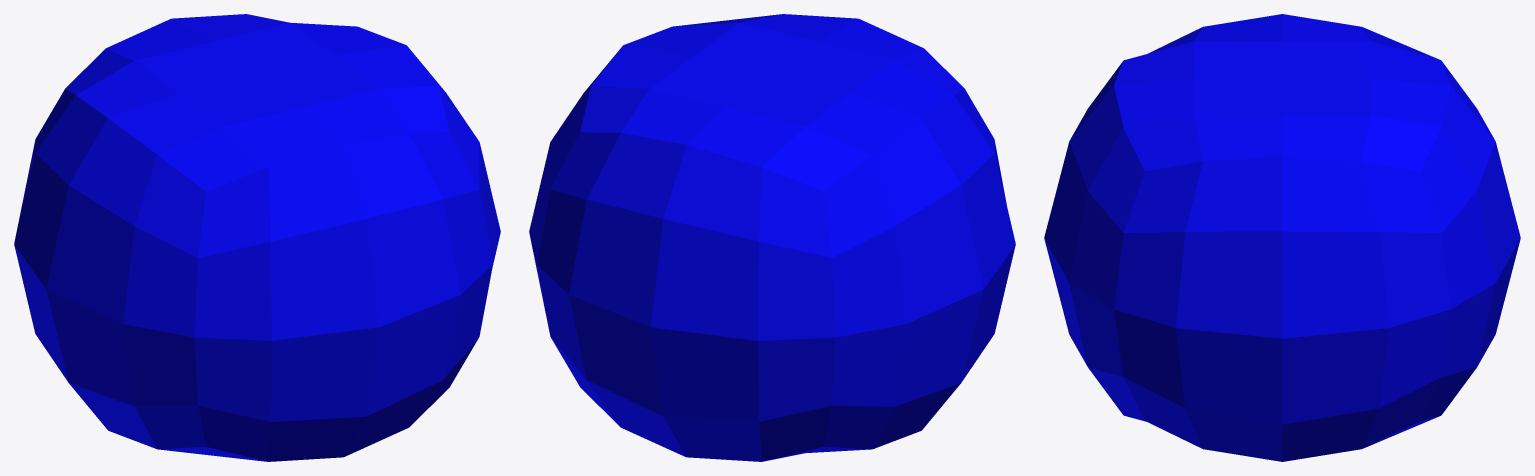
The model's file is center.gltf.
3 renders of one model, left to right at view 1: azimuth 30°, elevation 25°; view 2: azimuth 150°, elevation 25°; view 3: azimuth 270°, elevation 25°, orthographic. The views are drawn at different scales.
Visible parts, largest first — view 1: FireBarCenter; view 2: FireBarCenter; view 3: FireBarCenter.
Part boxes in pixels (x1=…): FireBarCenter: x1=14, y1=14, x2=500, y2=461; FireBarCenter: x1=529, y1=14, x2=1015, y2=461; FireBarCenter: x1=1044, y1=14, x2=1520, y2=461.
Bounding box in the file's own units: 2.71 × 2 × 2.71.
Materials: 1 (1 with a texture image).
